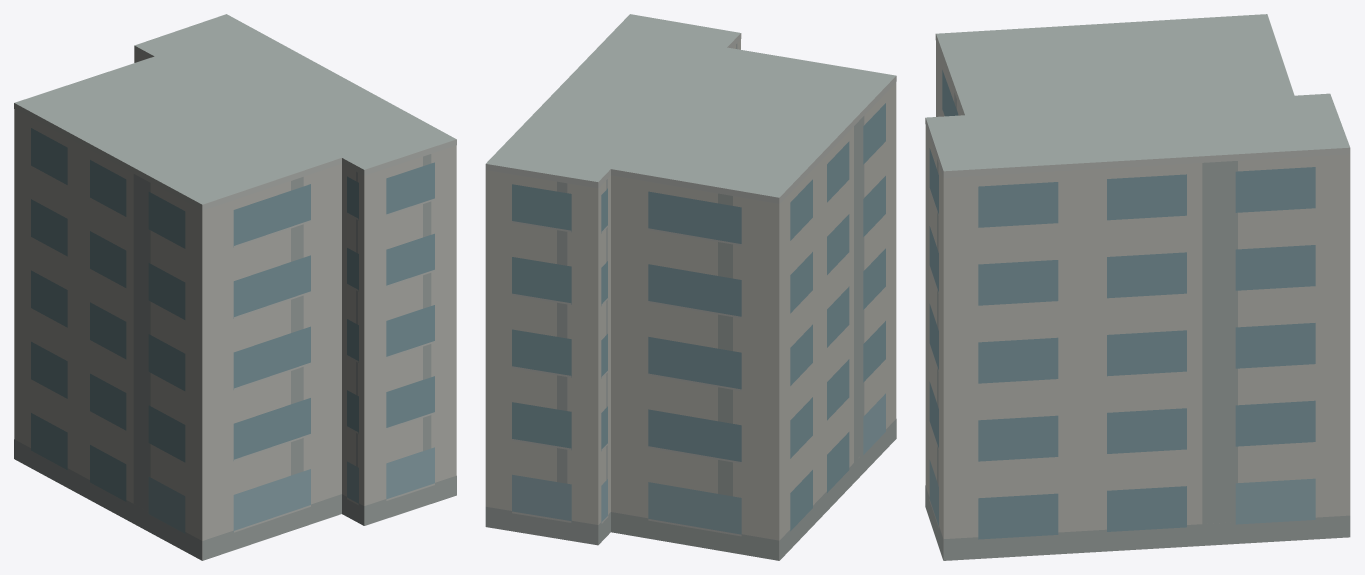
The model's file is survey-upis-33028733.glb.
3 renders of one model, left to right at view 1: azimuth 30°, elevation 25°; view 2: azimuth 150°, elevation 25°; view 3: azimuth 270°, elevation 25°, orthographic. The views are drawn at different scales.
Visible parts, largest first — view 1: survey-upis-33028733.tmp; view 2: survey-upis-33028733.tmp; view 3: survey-upis-33028733.tmp.
Boxes of the visible parts, x1=… form: survey-upis-33028733.tmp: x1=14, y1=14, x2=456, y2=560; survey-upis-33028733.tmp: x1=485, y1=14, x2=896, y2=560; survey-upis-33028733.tmp: x1=925, y1=14, x2=1350, y2=560.
Bounding box in the file's own units: 12.39 × 14.3 × 14.14.
